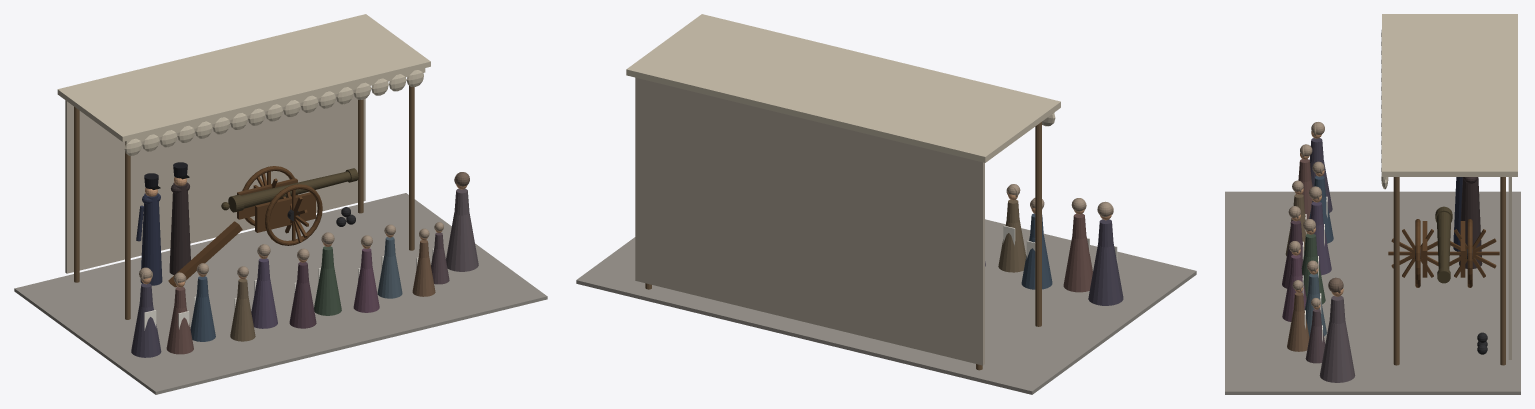
The model's file is scan-fig51-peace-muse.glb.
3 views of the same model, side by side, from view 1: azimuth 30°, elevation 25°; view 2: azimuth 150°, elevation 25°; view 3: azimuth 270°, elevation 25° (orthographic). The views are drawn at different scales.
Parts seen in each view (by area): view 1: ground, backdrop, canopy_roof, coat.001, skirt.011, coat, cheek_l, barrel, skirt, canopy_post.001, skirt.006, skirt.004 (+15 smaller); view 2: backdrop, canopy_roof, ground, skirt, canopy_post, skirt.001, skirt.003, skirt.002; view 3: ground, canopy_roof, skirt.011, canopy_post.002, canopy_post.003, coat.001, barrel, backdrop, skirt.009, skirt.010, skirt.004, skirt.007 (+16 smaller).
Part boxes in pixels (x1=…): ground: x1=14, y1=193, x2=547, y2=394; backdrop: x1=65, y1=90, x2=365, y2=273; canopy_roof: x1=57, y1=14, x2=430, y2=141; coat.001: x1=169, y1=182, x2=190, y2=274; skirt.011: x1=446, y1=212, x2=478, y2=271; coat: x1=140, y1=193, x2=162, y2=285; cheek_l: x1=255, y1=192, x2=315, y2=232; barrel: x1=229, y1=171, x2=350, y2=211; skirt: x1=131, y1=304, x2=161, y2=357; canopy_post.001: x1=74, y1=106, x2=79, y2=282; skirt.006: x1=314, y1=266, x2=341, y2=315; skirt.004: x1=251, y1=278, x2=277, y2=328; backdrop: x1=635, y1=77, x2=984, y2=365; canopy_roof: x1=626, y1=14, x2=1060, y2=162; ground: x1=576, y1=219, x2=1196, y2=394; skirt: x1=1088, y1=244, x2=1123, y2=305; canopy_post: x1=1035, y1=122, x2=1041, y2=326; skirt.001: x1=1063, y1=236, x2=1092, y2=292; skirt.003: x1=998, y1=220, x2=1026, y2=272; skirt.002: x1=1021, y1=235, x2=1052, y2=289; ground: x1=1225, y1=191, x2=1520, y2=394; canopy_roof: x1=1382, y1=14, x2=1517, y2=176; skirt.011: x1=1319, y1=321, x2=1355, y2=382; canopy_post.002: x1=1393, y1=177, x2=1399, y2=365; canopy_post.003: x1=1500, y1=177, x2=1505, y2=365; coat.001: x1=1459, y1=177, x2=1482, y2=268; barrel: x1=1436, y1=212, x2=1451, y2=269; backdrop: x1=1508, y1=177, x2=1511, y2=359; skirt.009: x1=1287, y1=310, x2=1309, y2=351; skirt.010: x1=1305, y1=325, x2=1325, y2=363; skirt.004: x1=1314, y1=223, x2=1331, y2=275; skirt.007: x1=1282, y1=274, x2=1306, y2=321.
Size of the model in its own units: 8 by 3.77 by 5.
